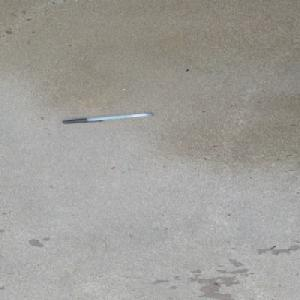Pen: (61, 111, 153, 124)
